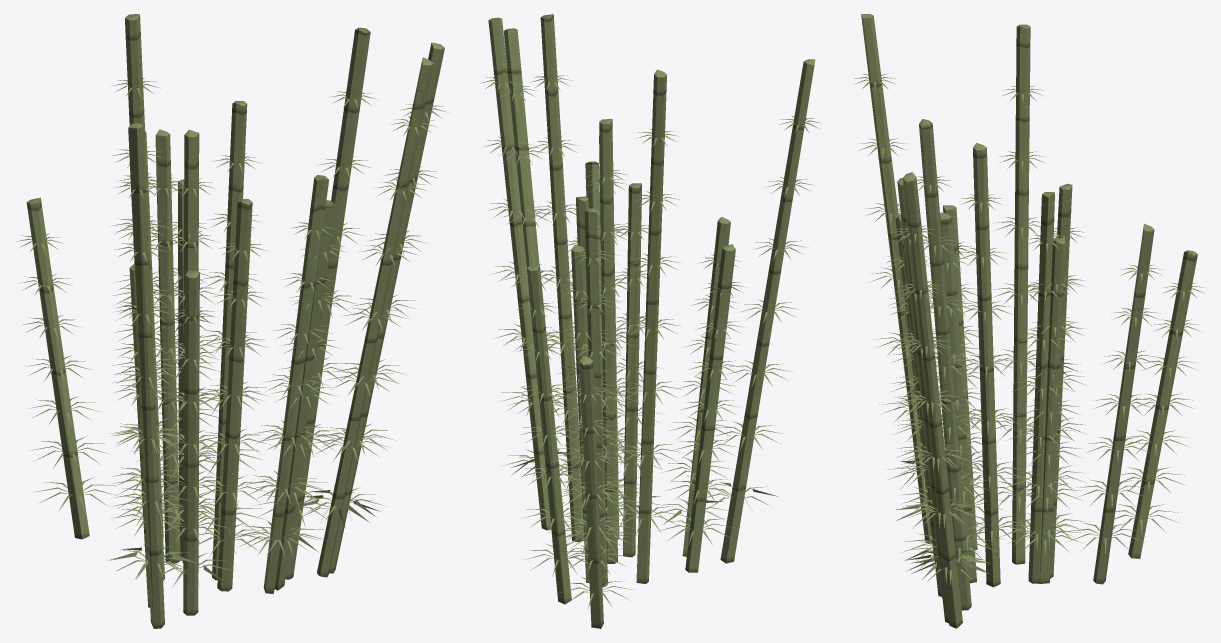
Rendered from neocalamites.glb.
3 renders of one model, left to right at view 1: azimuth 30°, elevation 25°; view 2: azimuth 150°, elevation 25°; view 3: azimuth 270°, elevation 25°, orthographic. The views are drawn at different scales.
Parts seen in each view (by area): view 1: neocalamites_medio; view 2: neocalamites_medio; view 3: neocalamites_medio.
Part boxes in pixels (<box>): neocalamites_medio: <box>16,14,445,628</box>; neocalamites_medio: <box>480,14,821,628</box>; neocalamites_medio: <box>854,14,1204,628</box>.
Size of the model in its own units: 1.89 by 2.93 by 1.78.
1 material, 1 textured.
